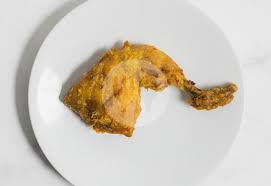Ayam goreng: (63, 40, 239, 137)
